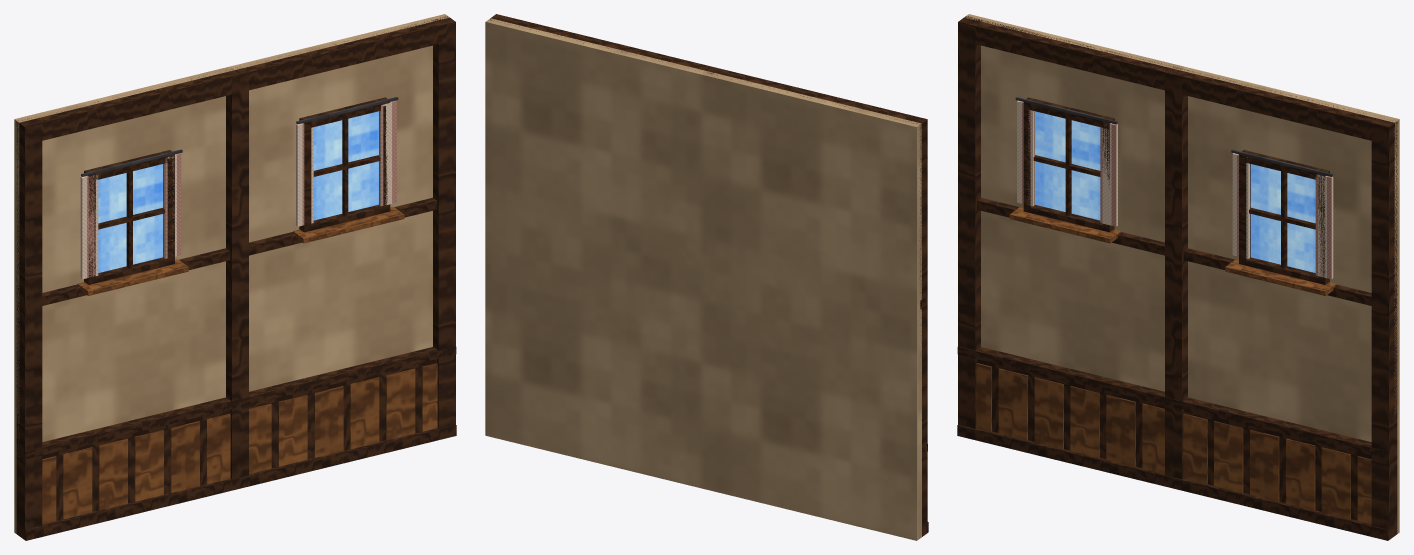
The model's file is wall_panel.glb.
3 views of the same model, side by side, from view 1: azimuth 30°, elevation 25°; view 2: azimuth 150°, elevation 25°; view 3: azimuth 330°, elevation 25° (orthographic).
Parts seen in each view (by area): view 1: wall_panel__K_plaster, wall_panel__K_darkwood, wall_panel__K_oak, wall_panel__K_magic, wall_panel__K_cloth, wall_panel__K_iron; view 2: wall_panel__K_plaster, wall_panel__K_darkwood; view 3: wall_panel__K_plaster, wall_panel__K_darkwood, wall_panel__K_oak, wall_panel__K_magic, wall_panel__K_cloth, wall_panel__K_iron.
Boxes of the visible parts, x1,y1,x2,y2 form: wall_panel__K_plaster: (14, 14, 449, 533); wall_panel__K_darkwood: (16, 16, 456, 540); wall_panel__K_oak: (42, 206, 437, 524); wall_panel__K_magic: (98, 111, 378, 272); wall_panel__K_cloth: (80, 100, 396, 279); wall_panel__K_iron: (81, 97, 398, 176); wall_panel__K_plaster: (485, 18, 921, 540); wall_panel__K_darkwood: (490, 14, 928, 536); wall_panel__K_plaster: (964, 14, 1399, 533); wall_panel__K_darkwood: (957, 16, 1397, 540); wall_panel__K_oak: (976, 206, 1371, 524); wall_panel__K_magic: (1035, 111, 1315, 272); wall_panel__K_cloth: (1017, 100, 1333, 279); wall_panel__K_iron: (1015, 97, 1332, 176).
Bounding box in the file's own units: 6 × 5.5 × 0.4.
6 materials, 6 textured.
